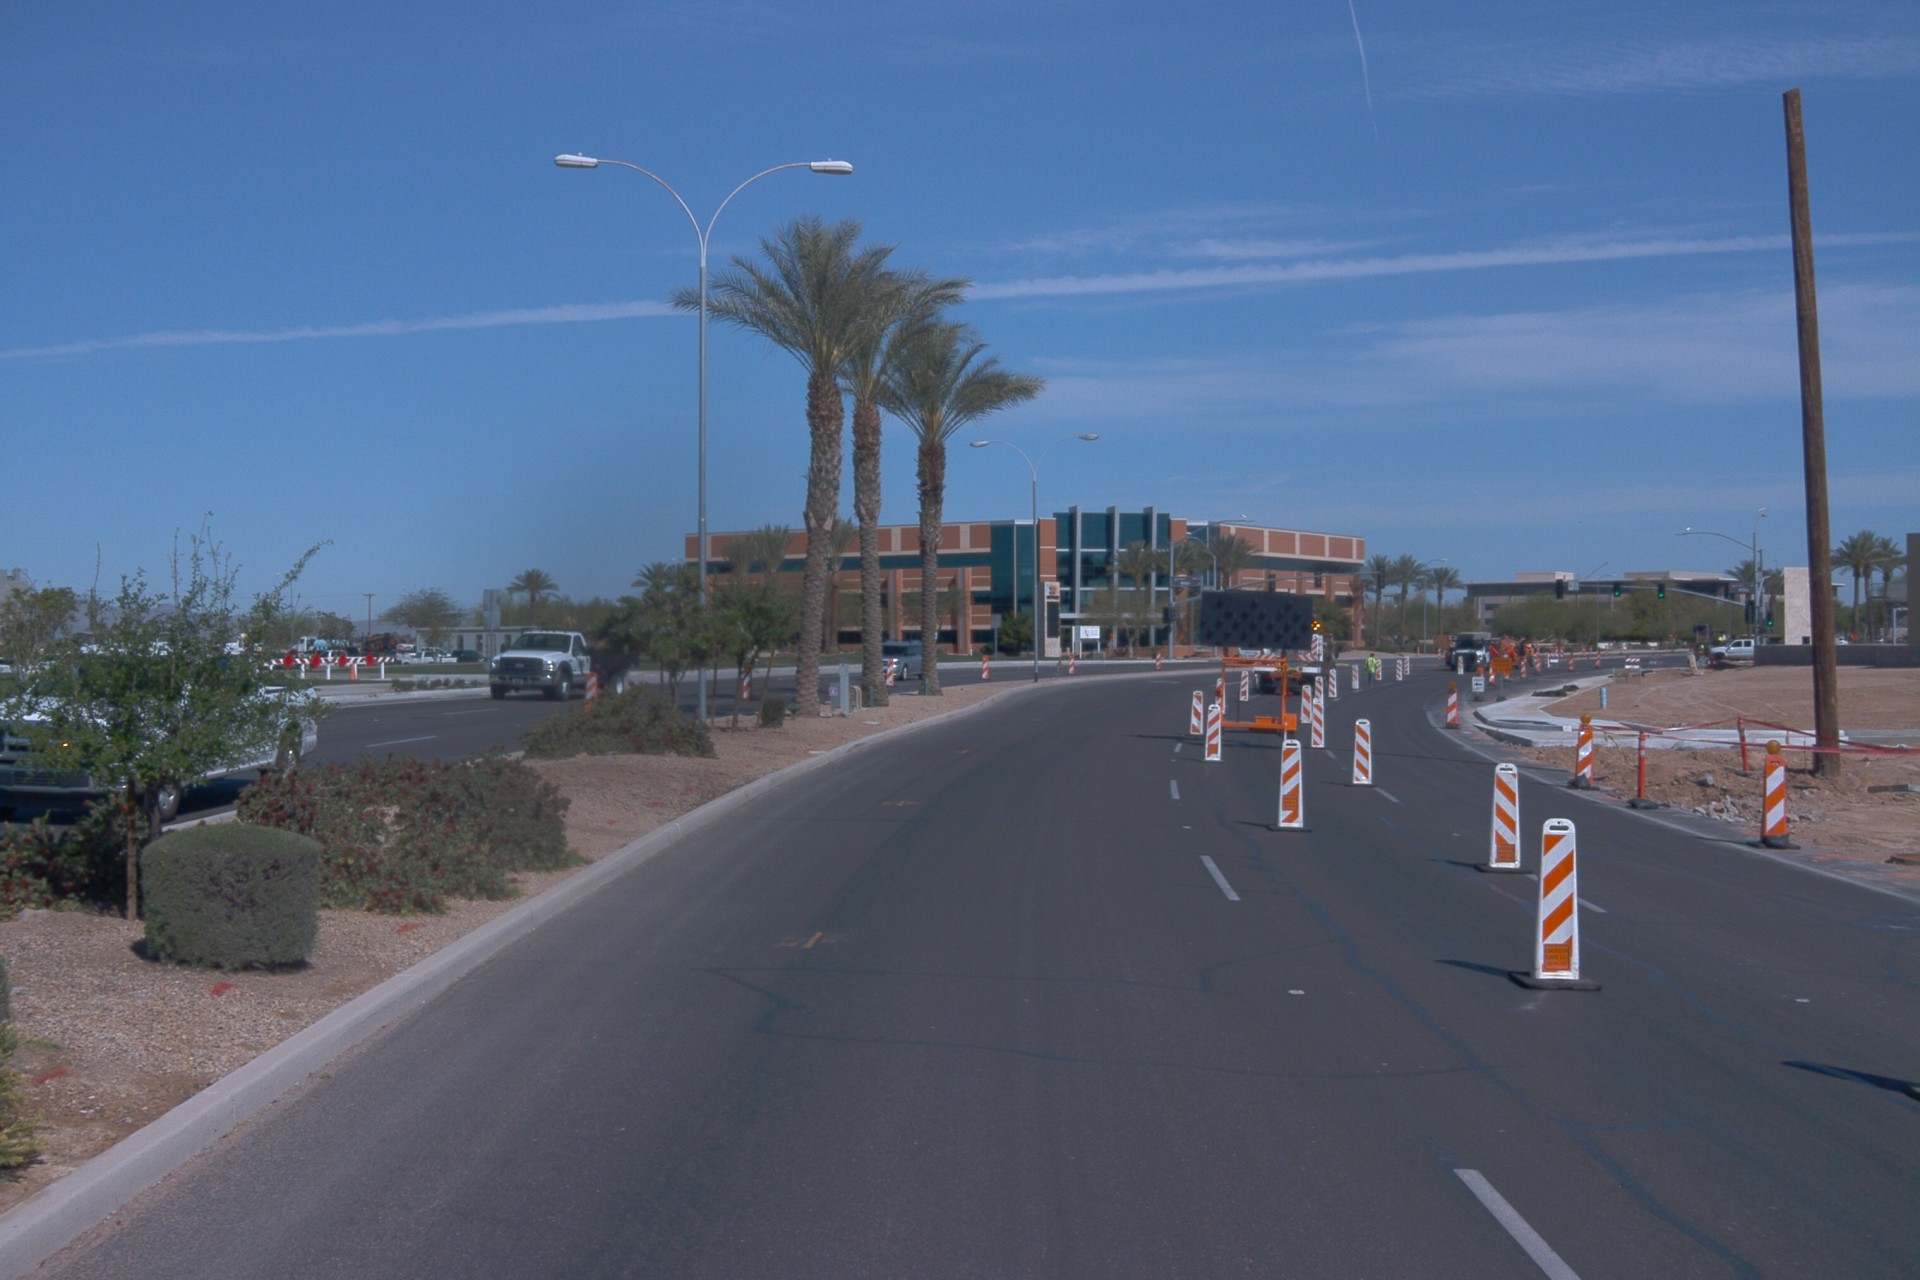TYPE_PEDESTRIAN: (1363, 652, 1377, 686)
TYPE_VEHICLE: (0, 640, 327, 826), (1195, 566, 1340, 752), (486, 608, 634, 705), (1243, 625, 1348, 698), (1447, 628, 1549, 674), (1707, 631, 1759, 670), (880, 638, 924, 681), (389, 643, 448, 668), (401, 645, 459, 669), (447, 645, 495, 666), (399, 648, 460, 664), (1235, 647, 1277, 661), (1444, 646, 1456, 665), (1332, 663, 1338, 671)
